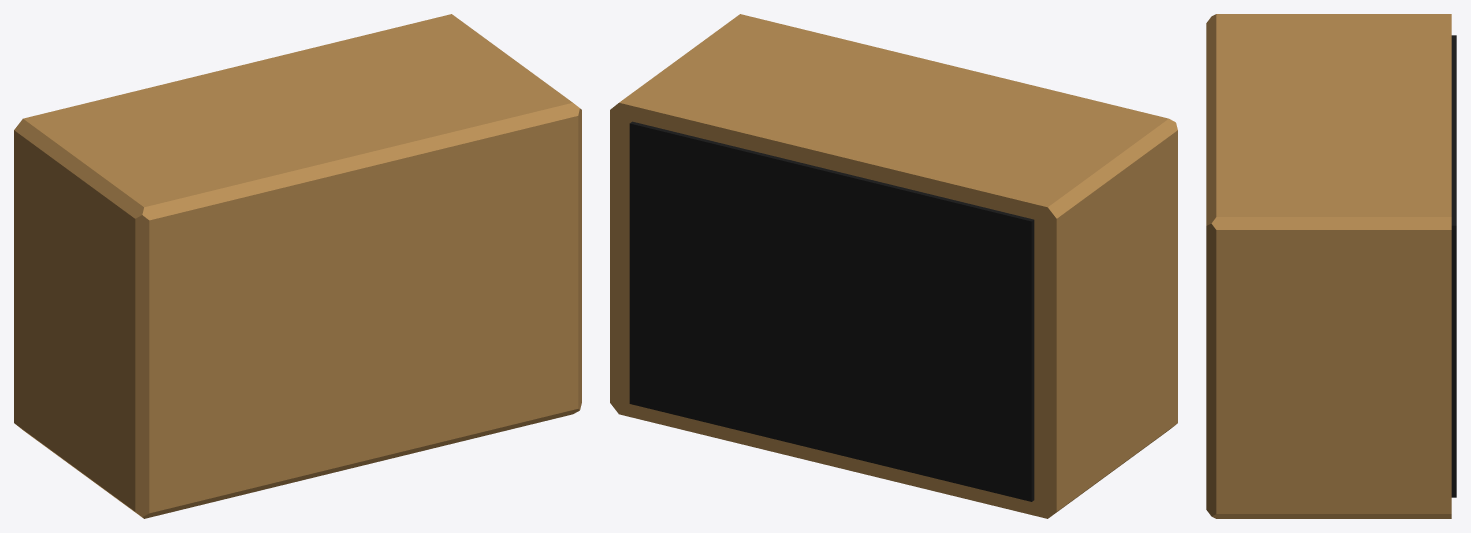
Rendered from payload_box_small.obj.
3 views of the same model, side by side, from view 1: azimuth 30°, elevation 25°; view 2: azimuth 150°, elevation 25°; view 3: azimuth 270°, elevation 25° (orthographic). The views are drawn at different scales.
Visible parts, largest first — view 1: body; view 2: feet, body; view 3: body, feet.
Part boxes in pixels (x1,y1,x2,y2): body: (14, 14, 581, 518); feet: (629, 121, 1034, 501); body: (610, 14, 1177, 518); body: (1206, 14, 1451, 518); feet: (1451, 35, 1456, 497).
Bounding box in the file's own units: 0.3 × 0.2 × 0.15.
